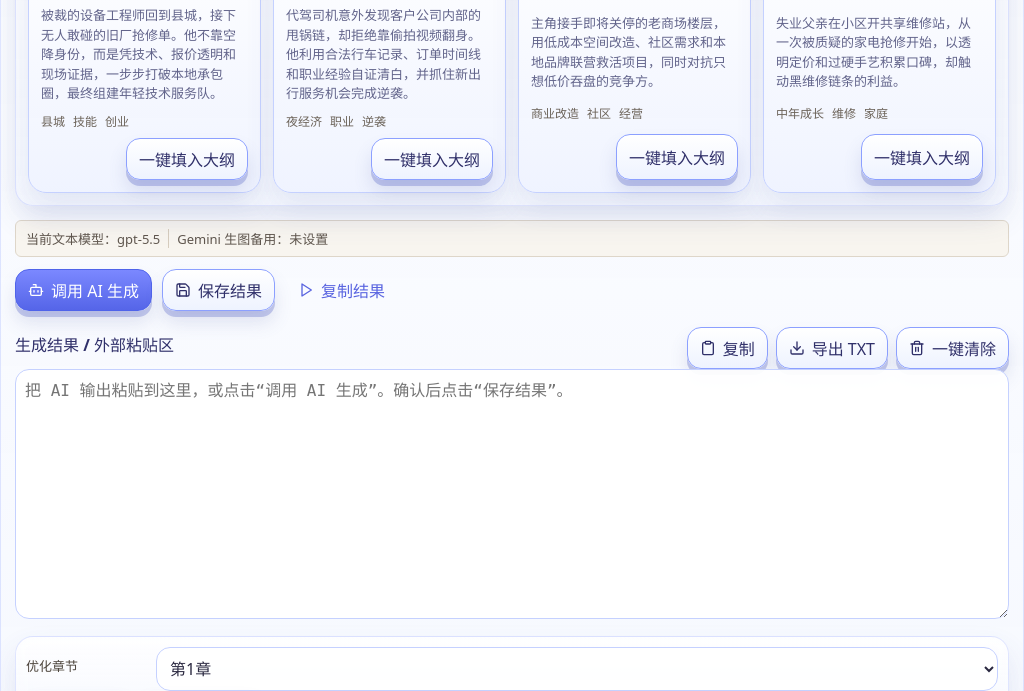
Scenario: Workspace writing flow › reports a copy failure when the fallback command cannot write to the clipboard
(page scrolled)
Click the button "复制" at (727, 348), box [687,326,768,368]
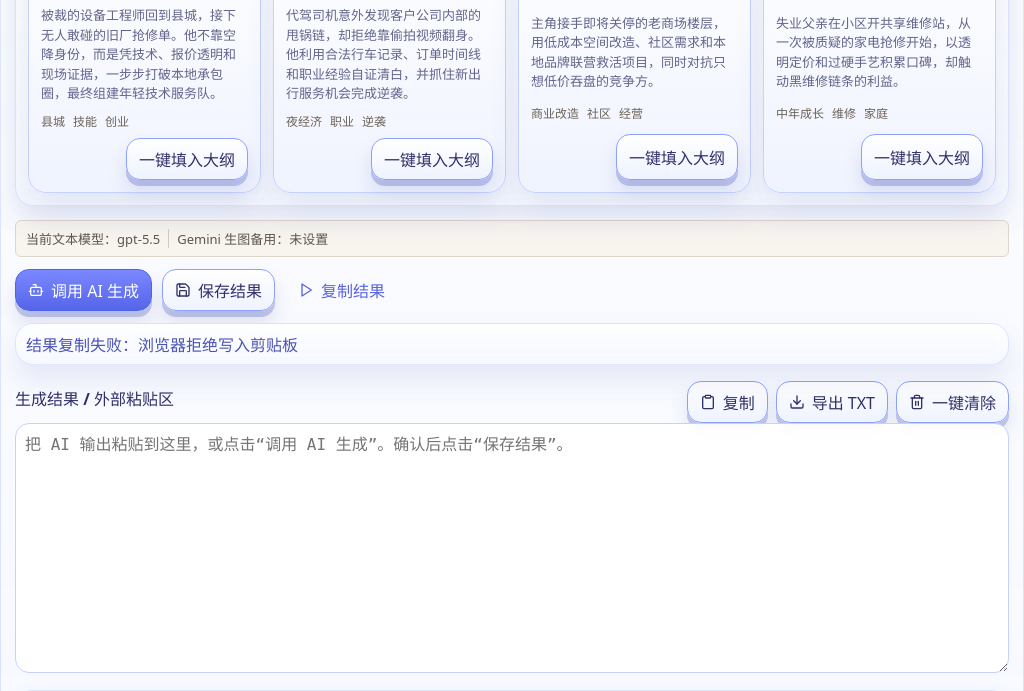
expect the text "结果复制失败：浏览器拒绝写入剪贴板" is shown: met, box [15,322,1009,364]
